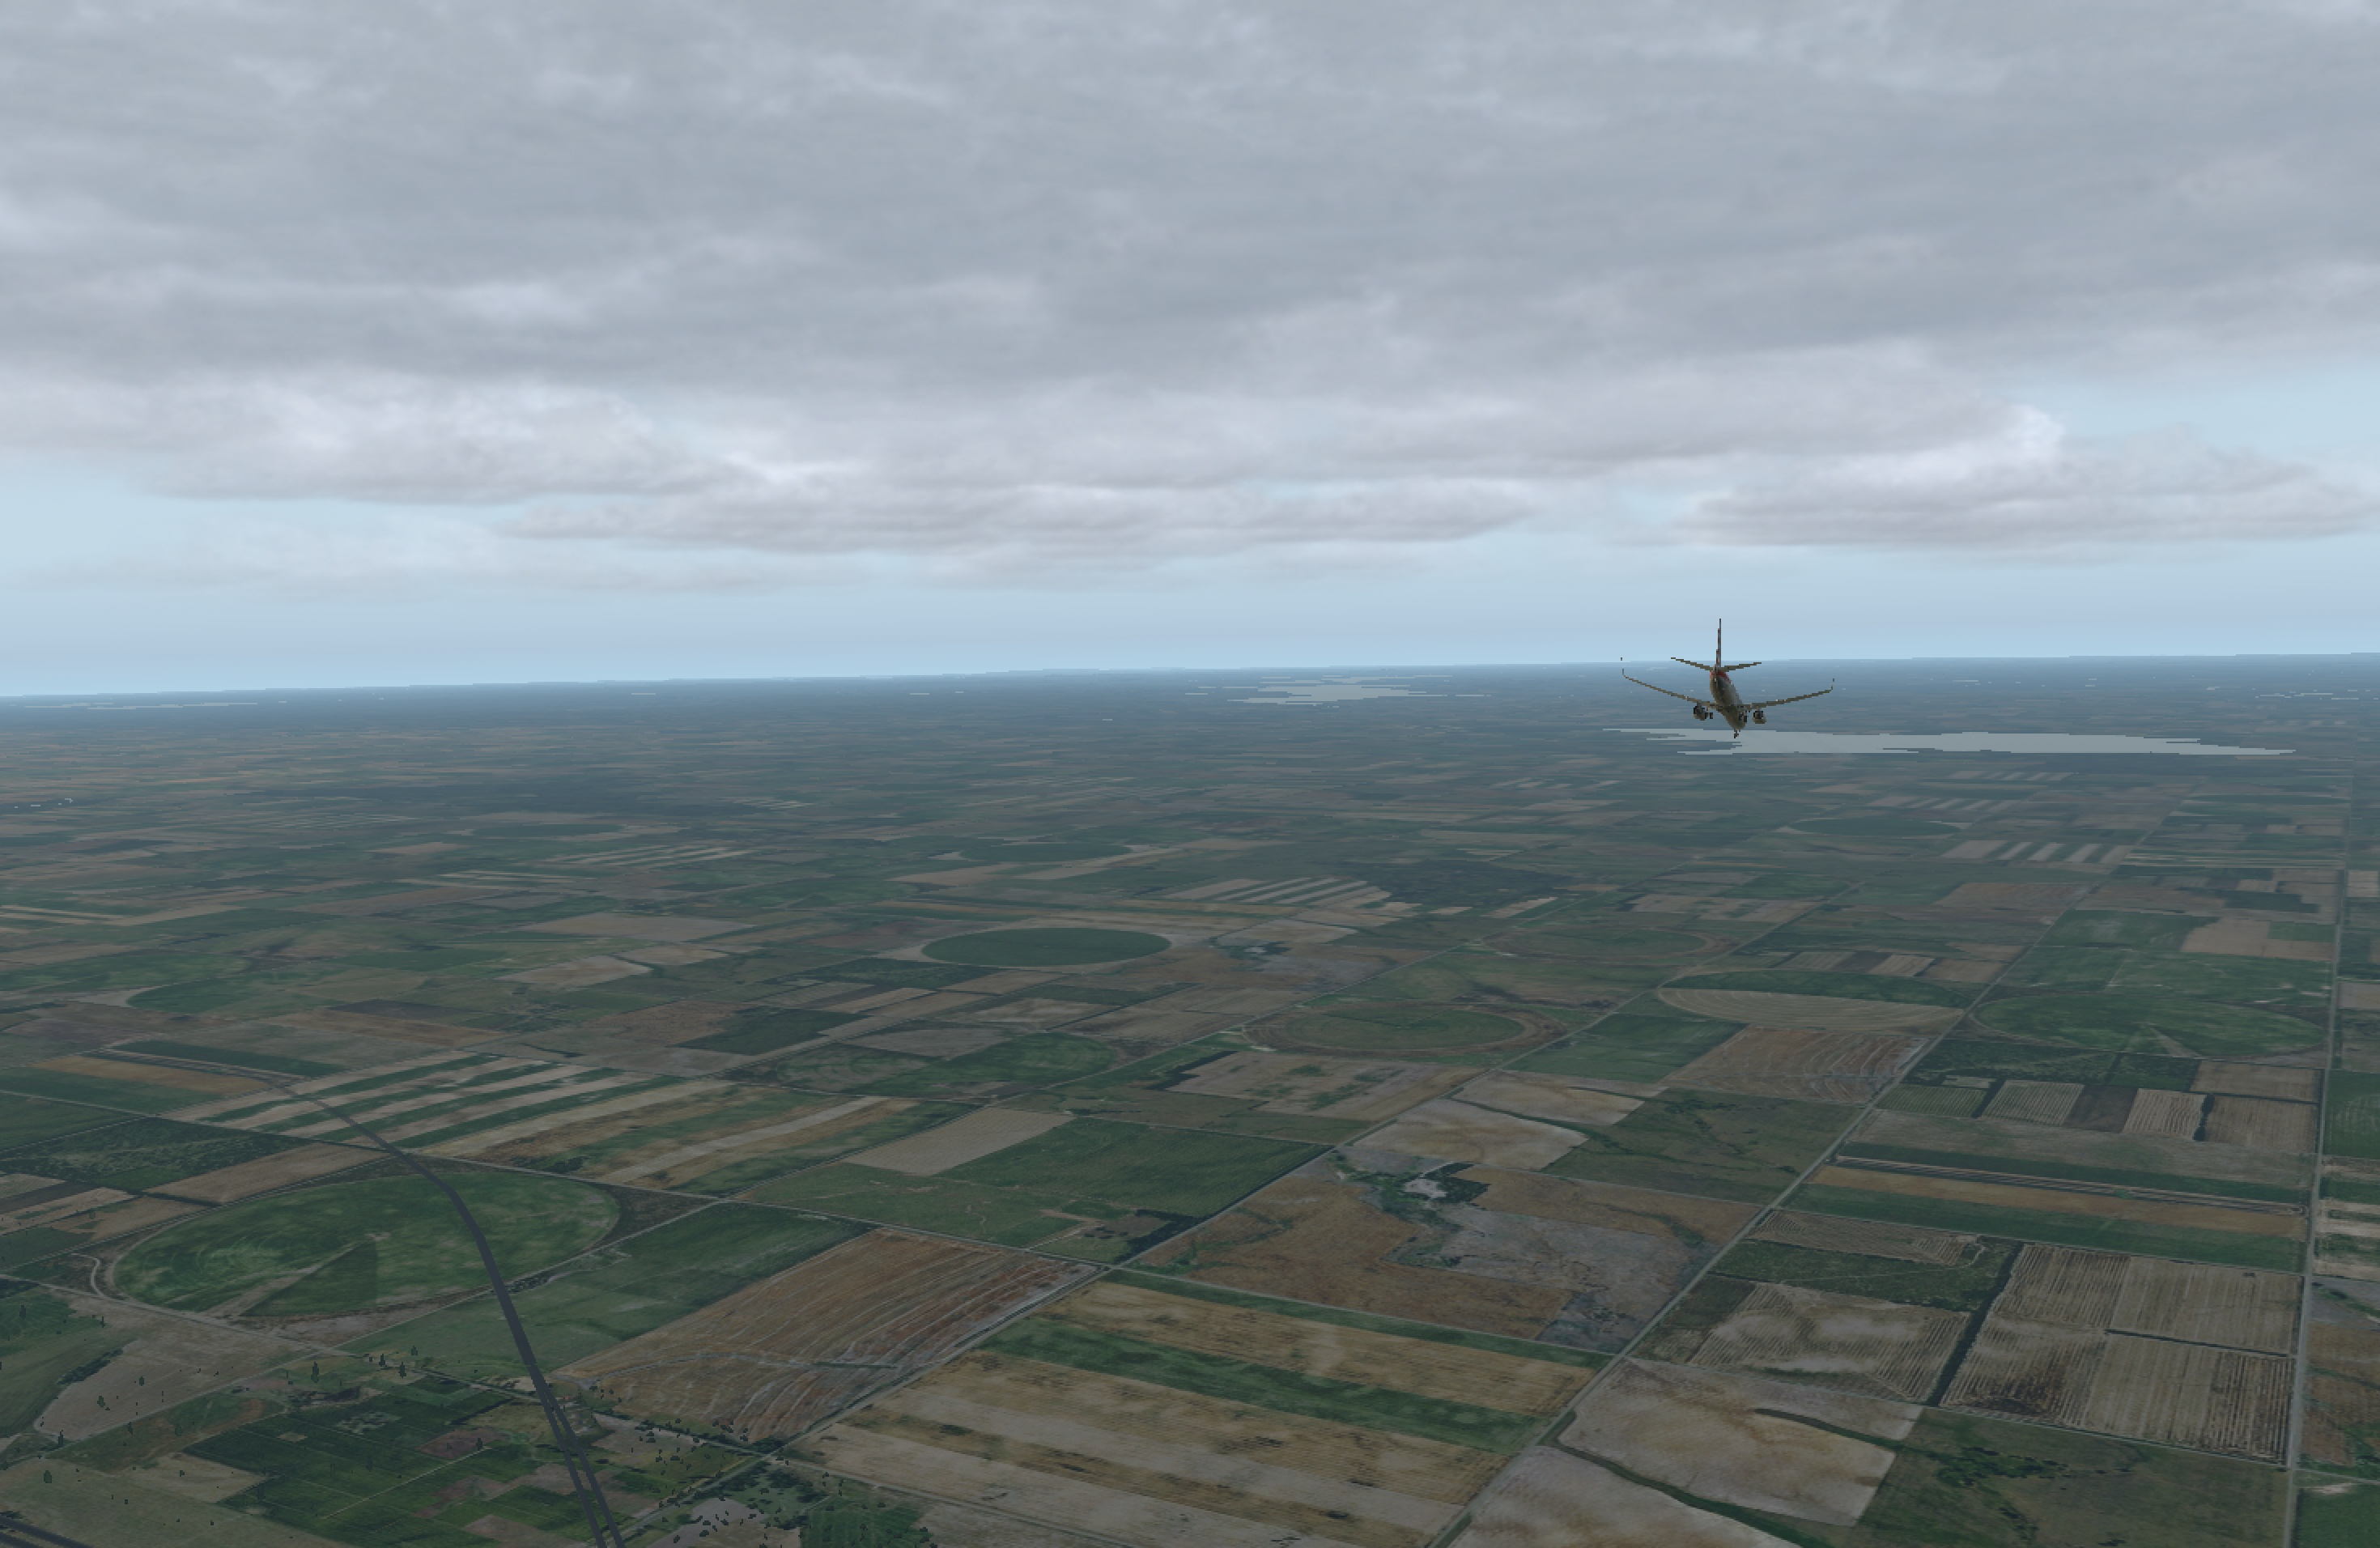aircraft: (1615, 663, 1841, 746)
